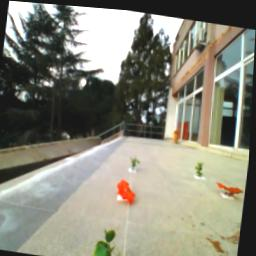herb: (95, 225, 127, 256), (196, 158, 207, 174), (131, 155, 143, 169)
wild: (217, 178, 247, 196)
